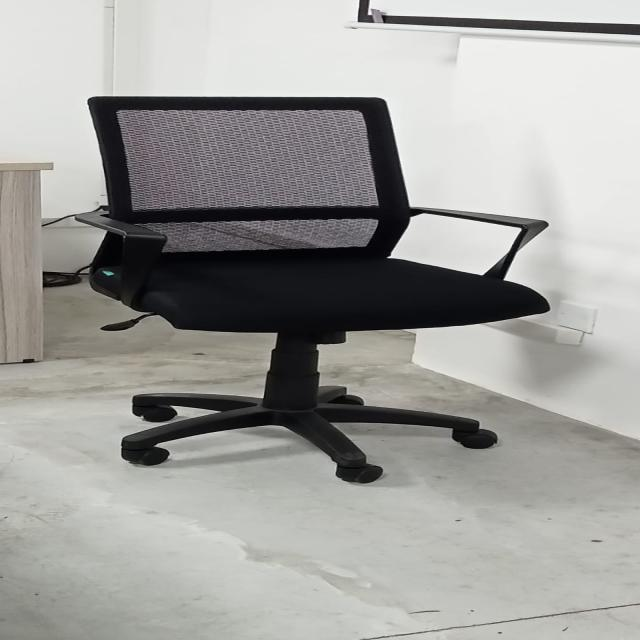bottle: (75, 94, 561, 488)
